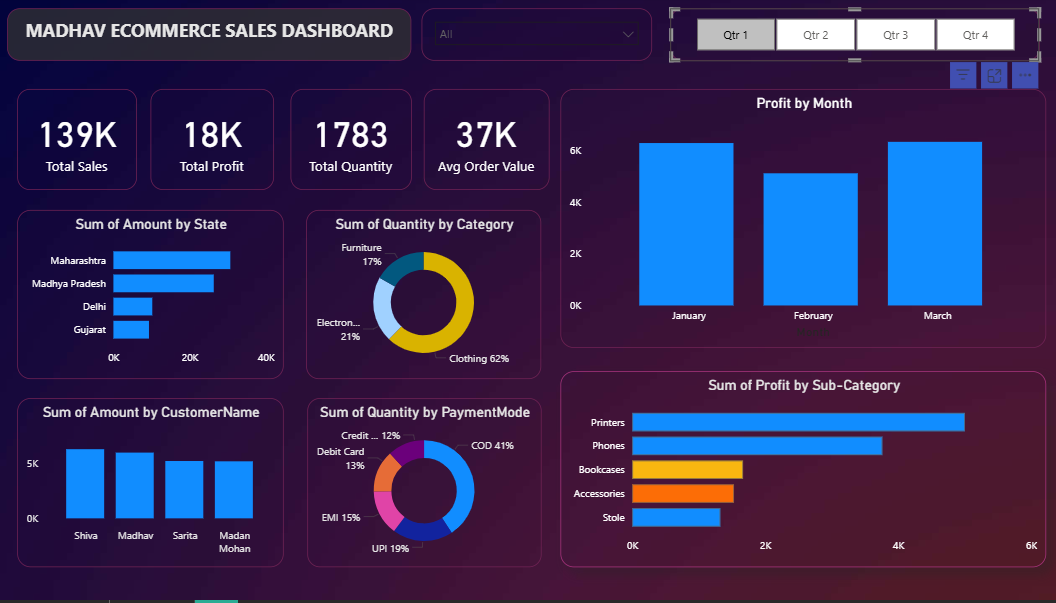

Layout of this report page (visuals, bound fields, positions):
{"tool":"powerbi","page":{"name":"Page 1","canvas":[1280,720],"ordinal":0},"visuals":[{"type":"textbox","box":[24,14.7,482.3,62.8],"z":0},{"type":"barChart","fields":{"Category":["Details.Sub-Category"],"Y":["Sum(Details.Profit)"]},"box":[684.1,447.6,579.9,233.8],"z":1000},{"type":"barChart","fields":{"Category":["Orders.State"],"Y":["Sum(Details.Amount)"]},"box":[36.1,255.2,318,201.7],"z":2000},{"type":"columnChart","fields":{"Y":["Sum(Details.Amount)"],"Category":["Orders.CustomerName"]},"box":[36.1,479.7,318,201.7],"z":3000},{"type":"donutChart","fields":{"Y":["Sum(Details.Quantity)"],"Category":["Details.Category"]},"box":[380.8,255.2,280.6,201.7],"z":4000},{"type":"donutChart","fields":{"Y":["Sum(Details.Quantity)"],"Category":["Details.PaymentMode"]},"box":[382.1,479.7,279.2,201.7],"z":5000},{"type":"card","fields":{"Values":["Sum(Details.Amount)"]},"box":[36.1,110.9,143,120.2],"z":6000},{"type":"card","fields":{"Values":["Sum(Details.Profit)"]},"box":[195.1,110.9,147,120.2],"z":7000},{"type":"card","fields":{"Values":["Sum(Details.Quantity)"]},"box":[362.1,110.9,144.3,120.2],"z":8000},{"type":"card","fields":{"Values":["Sum(Details.AOV)"]},"box":[521.1,110.9,149.6,120.2],"z":9000},{"type":"slicer","fields":{"Values":["Orders.Order Date.Variation.Date Hierarchy.Quarter"]},"box":[815,14.7,440.9,62.8],"z":10000},{"type":"slicer","fields":{"Values":["Orders.State"]},"box":[518.4,14.7,275.2,62.8],"z":11000},{"type":"columnChart","title":"Profit by Month","fields":{"Y":["Sum(Details.Profit)"],"Category":["Orders.Order Date.Variation.Date Hierarchy.Month"]},"box":[684.1,110.9,579.9,308.6],"z":12000}]}

Visuals, with their boxes in screenshot pixels (x1, y1, x2, y2), scaled from the page's 1280x720 canvas onto the 1056x603 screenshot:
textbox: <bbox>20, 12, 418, 65</bbox>
barChart - Details.Sub-Category x Sum(Details.Profit): <bbox>564, 375, 1043, 571</bbox>
barChart - Orders.State x Sum(Details.Amount): <bbox>30, 214, 292, 383</bbox>
columnChart - Sum(Details.Amount) x Orders.CustomerName: <bbox>30, 402, 292, 571</bbox>
donutChart - Sum(Details.Quantity) x Details.Category: <bbox>314, 214, 546, 383</bbox>
donutChart - Sum(Details.Quantity) x Details.PaymentMode: <bbox>315, 402, 546, 571</bbox>
card - Sum(Details.Amount): <bbox>30, 93, 148, 194</bbox>
card - Sum(Details.Profit): <bbox>161, 93, 282, 194</bbox>
card - Sum(Details.Quantity): <bbox>299, 93, 418, 194</bbox>
card - Sum(Details.AOV): <bbox>430, 93, 553, 194</bbox>
slicer - Orders.Order Date.Variation.Date Hierarchy.Quarter: <bbox>672, 12, 1036, 65</bbox>
slicer - Orders.State: <bbox>428, 12, 655, 65</bbox>
"Profit by Month" columnChart: <bbox>564, 93, 1043, 351</bbox>
